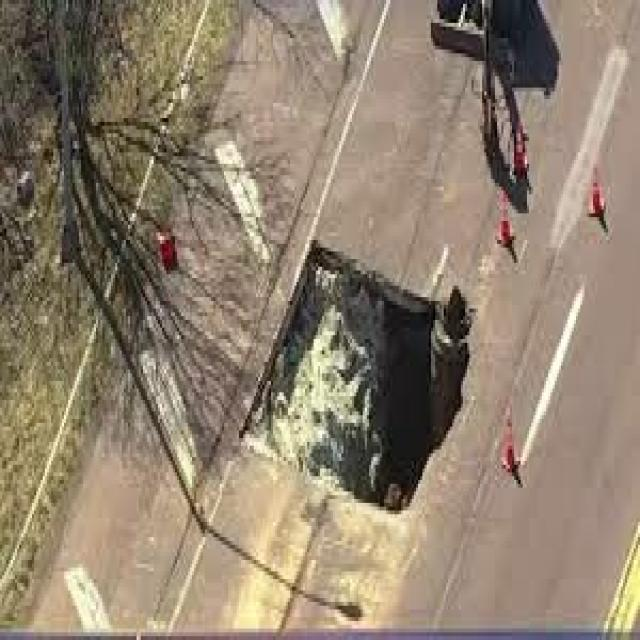Pothole: (226, 206, 551, 598)
